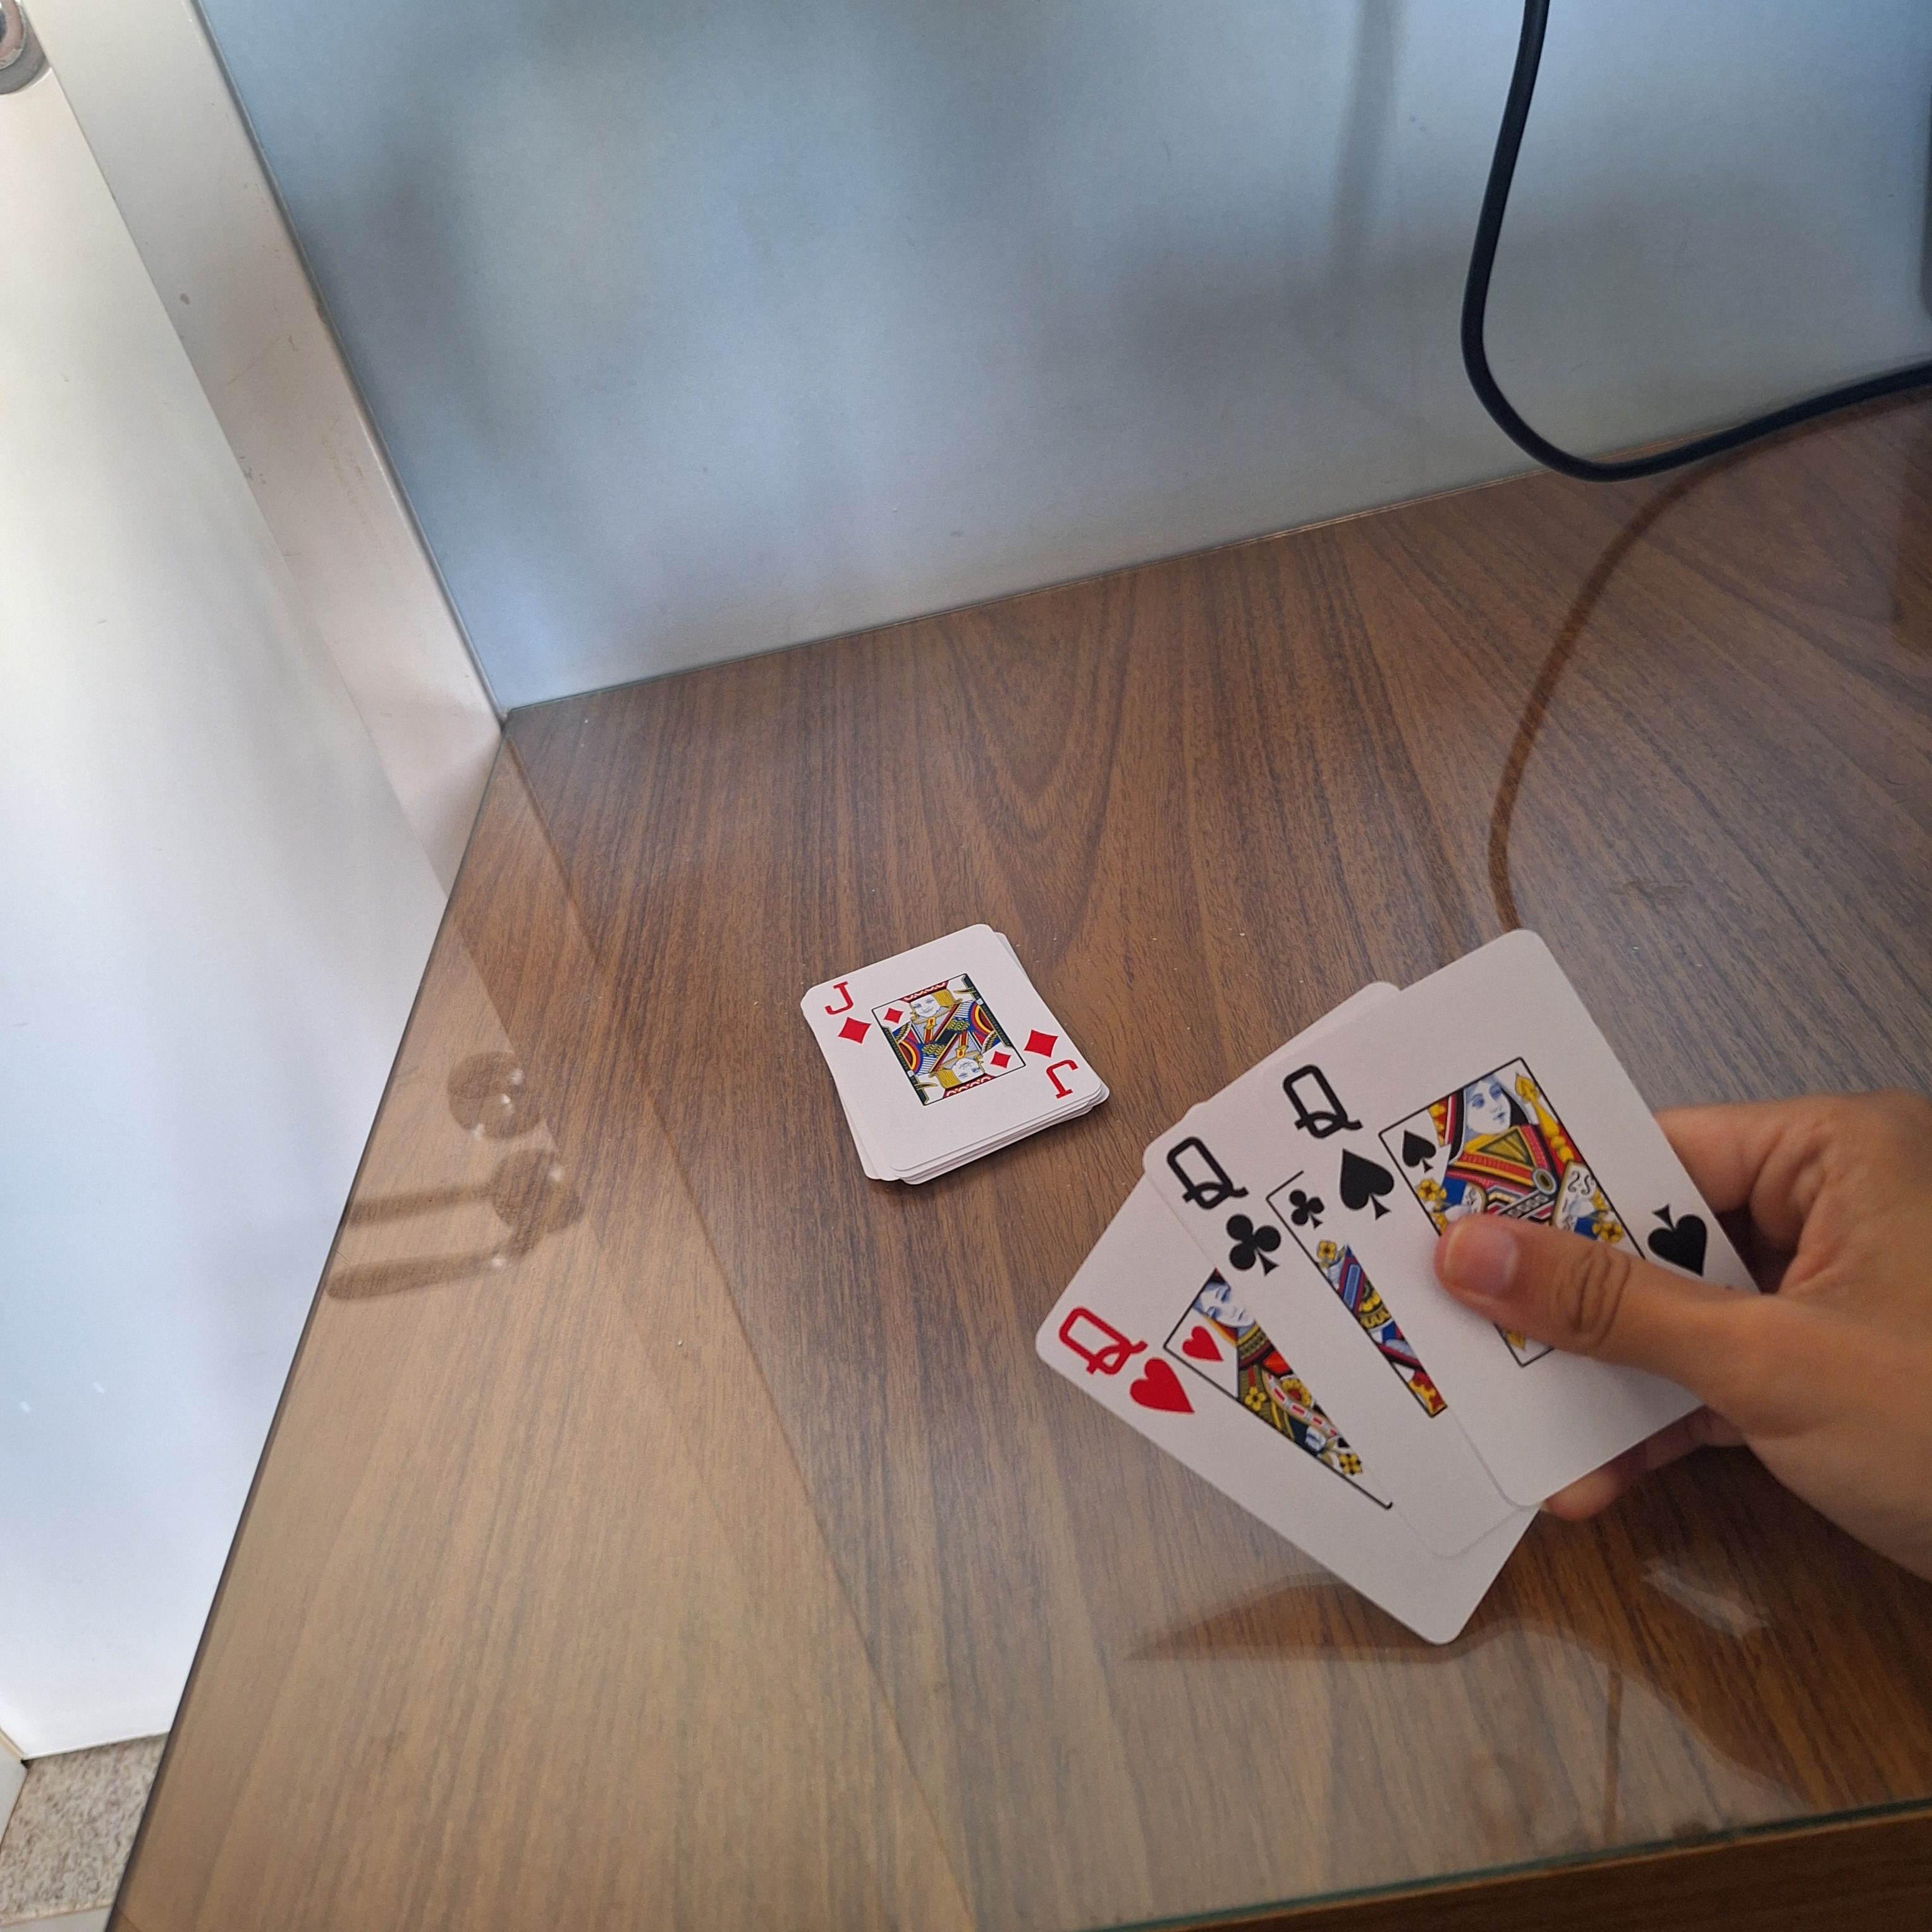JO: (1019, 1023, 1088, 1102), (821, 978, 876, 1051)
QC: (1049, 1300, 1198, 1417)
QE: (1279, 1058, 1405, 1221)
QP: (1161, 1127, 1283, 1283)
